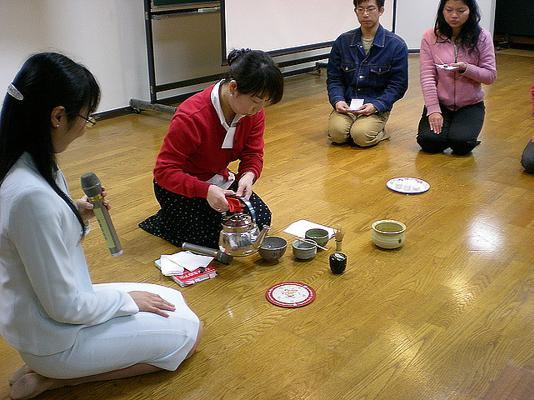person: (153, 47, 286, 252)
